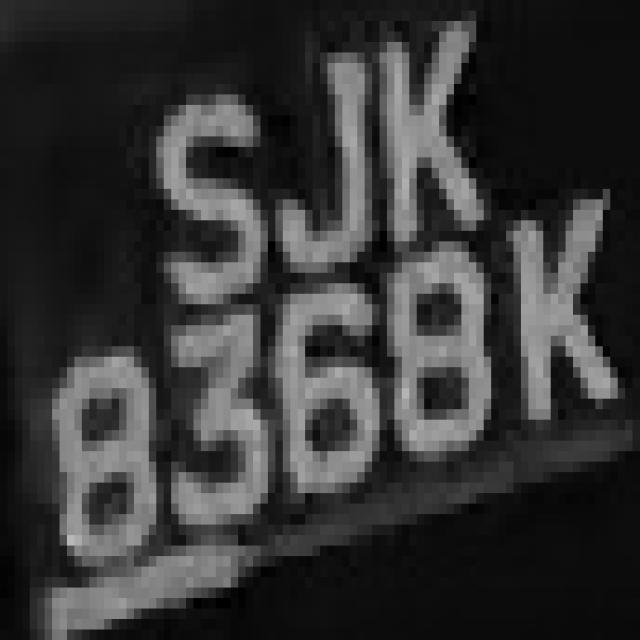3: (156, 304, 268, 546)
6: (268, 283, 394, 535)
8: (342, 241, 506, 504), (22, 304, 156, 598)
J: (246, 31, 380, 294)
K: (484, 168, 625, 451), (357, 10, 484, 273)
S: (142, 42, 260, 336)
